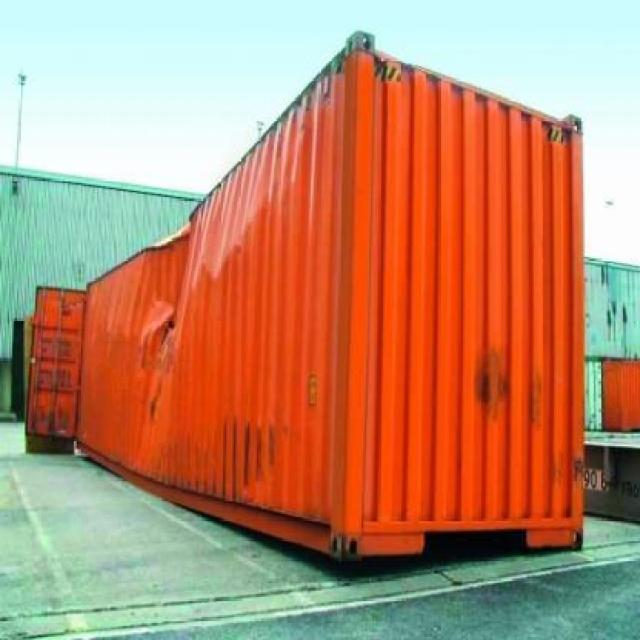dent: (130, 284, 203, 407)
